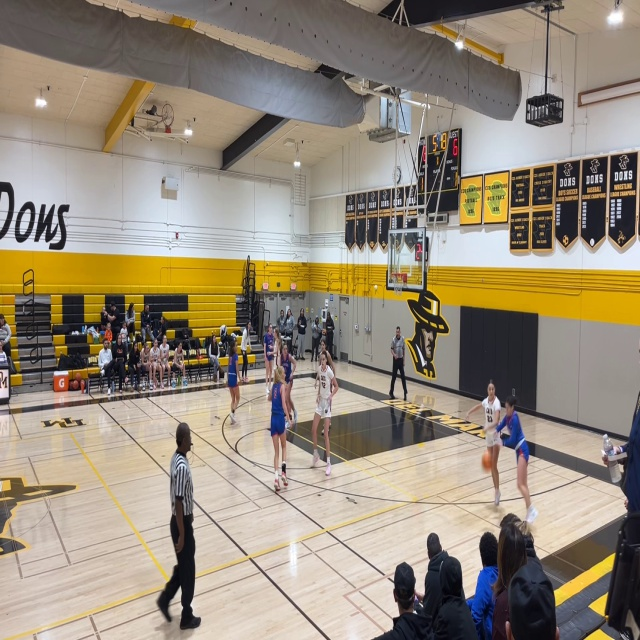Basketball: (481, 451, 492, 469)
